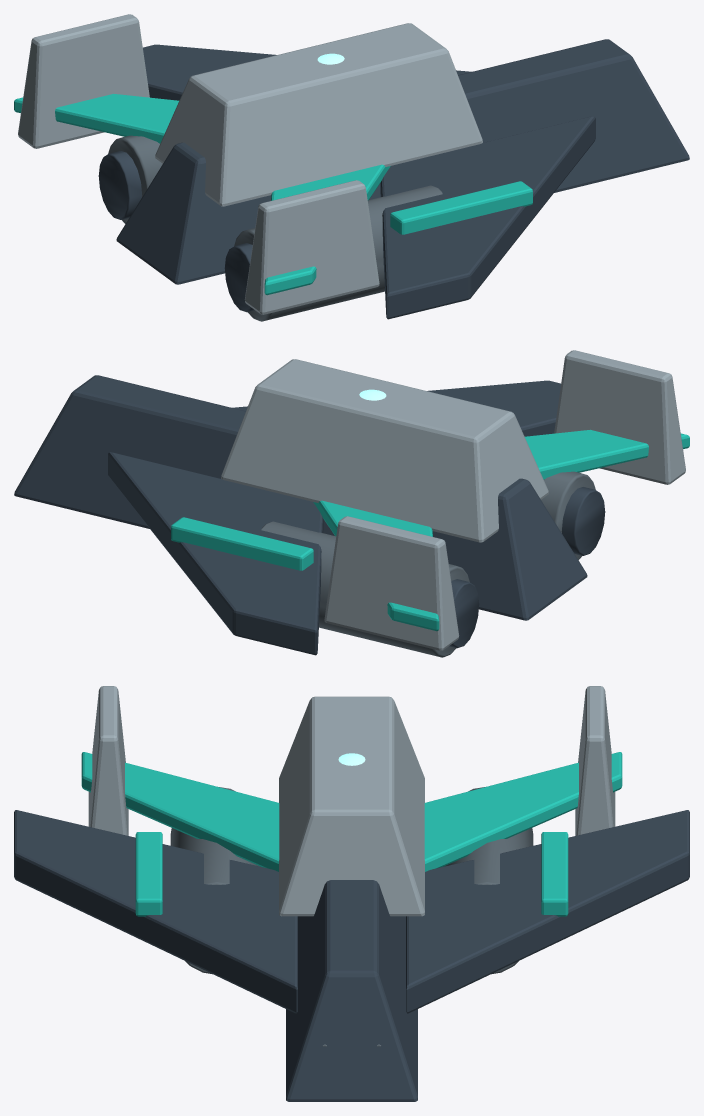
The model's file is SM_Veil.fbx.
3 views of the same model, one above another, from view 1: azimuth 30°, elevation 25°; view 2: azimuth 150°, elevation 25°; view 3: azimuth 270°, elevation 25° (orthographic). The views are drawn at different scales.
Parts seen in each view (by area): view 1: SM_Veil; view 2: SM_Veil; view 3: SM_Veil.
Part boxes in pixels (x1,y1,x2,y2): SM_Veil: (14,14,689,321); SM_Veil: (14,350,689,657); SM_Veil: (14,686,689,1101).
Bounding box in the file's own units: 49.7 × 52 × 18.
